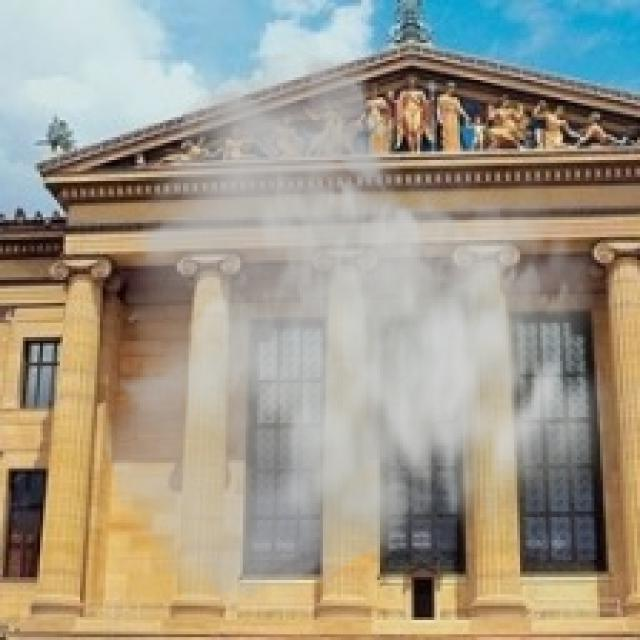smoke: (100, 46, 634, 611)
